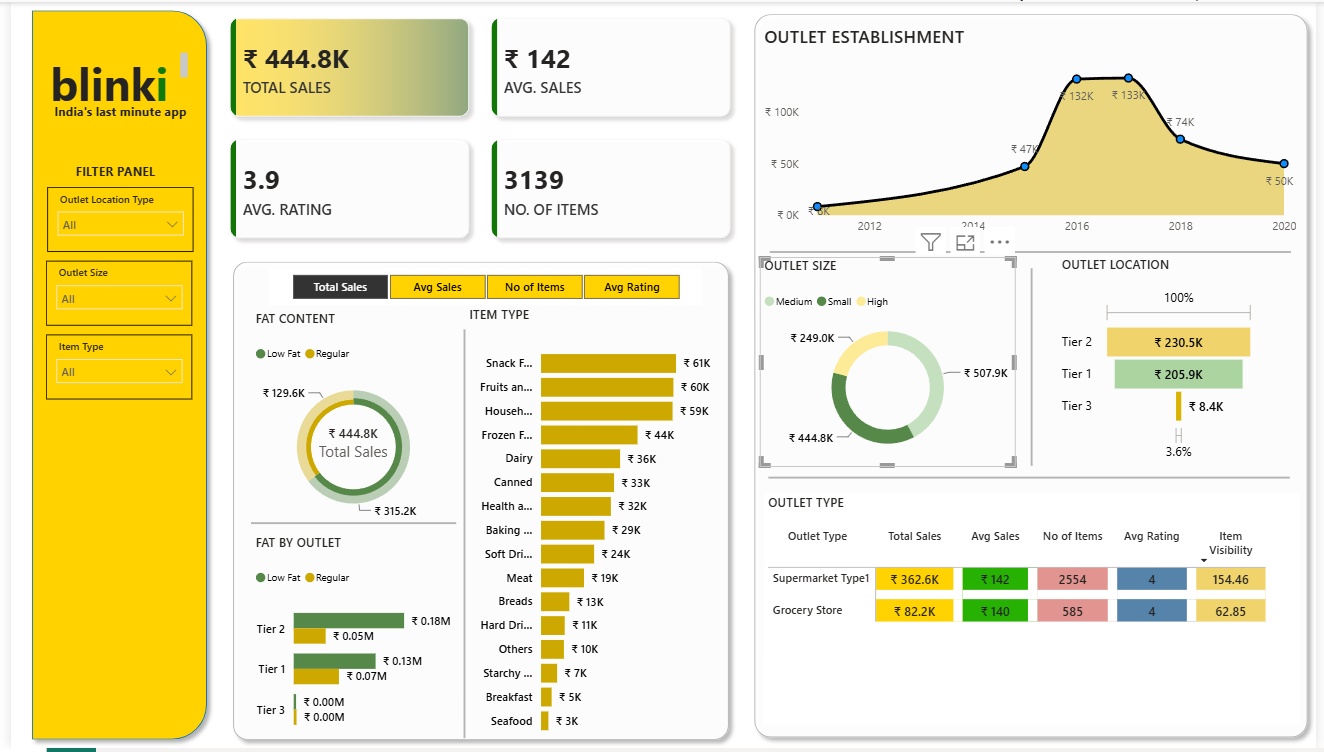

What the dashboard file says about the page in this screenshot:
{"tool":"powerbi","page":{"name":"Page 1","canvas":[1400,800],"ordinal":0},"visuals":[{"type":"shape","box":[12.9,0,205.7,800],"z":0},{"type":"textbox","box":[38,50,157,68],"z":1000},{"type":"textbox","box":[42.1,102.9,155.7,30],"z":2000},{"type":"cardVisual","fields":{"Data":["BlinkIT Grocery Data.Total Sales","BlinkIT Grocery Data.Avg Sales","BlinkIT Grocery Data.Avg Rating","BlinkIT Grocery Data.No of Items"]},"box":[218.6,0,570,270],"z":3000},{"type":"shape","box":[229.2,269.4,549.6,530.8],"z":4000},{"type":"donutChart","title":"FAT CONTENT","fields":{"Y":["BlinkIT Grocery Data.Total Sales"],"Category":["BlinkIT Grocery Data.Item Fat Content"]},"box":[257.1,330,220,240],"z":5000},{"type":"slicer","fields":{"Values":["Metrics.Metrics"]},"box":[275.7,285.7,465,40],"z":6000},{"type":"cardVisual","fields":{"Data":["BlinkIT Grocery Data.Total Sales"]},"box":[298.3,447.5,137.5,71.7],"z":7000},{"type":"clusteredBarChart","title":"FAT BY OUTLET","fields":{"Y":["BlinkIT Grocery Data.Total Sales"],"Category":["BlinkIT Grocery Data.Outlet Location Type"],"Series":["BlinkIT Grocery Data.Item Fat Content"]},"box":[256.9,570,220,230],"z":8000},{"type":"shape","box":[257.1,542.9,220,31.9],"z":9000},{"type":"shape","box":[477.3,350.9,18.2,438.2],"z":10000},{"type":"barChart","title":"ITEM TYPE","fields":{"Y":["BlinkIT Grocery Data.Total Sales"],"Category":["BlinkIT Grocery Data.Item Type"]},"box":[486.4,325.7,277.1,470.7],"z":11000},{"type":"shape","box":[788.8,3.8,611.2,793.8],"z":11001},{"type":"lineChart","title":"OUTLET ESTABLISHMENT","fields":{"Y":["BlinkIT Grocery Data.Total Sales"],"Category":["BlinkIT Grocery Data.Outlet Establishment Year"]},"box":[803,24.1,580.4,234.6],"z":11002},{"type":"shape","box":[813.7,253.4,559,29.5],"z":11003},{"type":"donutChart","title":"OUTLET SIZE","fields":{"Category":["BlinkIT Grocery Data.Outlet Size"],"Y":["BlinkIT Grocery Data.Total Sales"]},"box":[803,273.5,274.8,225.2],"z":11004},{"type":"shape","box":[1085.8,285.5,17.4,211.8],"z":11005},{"type":"funnel","title":"OUTLET LOCATION","fields":{"Category":["BlinkIT Grocery Data.Outlet Location Type"],"Y":["BlinkIT Grocery Data.Total Sales"]},"box":[1122,272.1,217.2,225.2],"z":11006},{"type":"shape","box":[812.3,494.6,559,30.8],"z":11007},{"type":"pivotTable","title":"OUTLET TYPE","fields":{"Values":["BlinkIT Grocery Data.Total Sales","BlinkIT Grocery Data.Avg Sales","BlinkIT Grocery Data.No of Items","BlinkIT Grocery Data.Avg Rating","Sum(BlinkIT Grocery Data.Item Visibility)"],"Rows":["BlinkIT Grocery Data.Outlet Type"]},"box":[807,526.8,575.1,248],"z":11008},{"type":"slicer","fields":{"Values":["BlinkIT Grocery Data.Outlet Location Type"]},"box":[38.9,198.4,156.8,69.7],"z":11009},{"type":"slicer","fields":{"Values":["BlinkIT Grocery Data.Outlet Size"]},"box":[37.5,277.5,156.8,69.7],"z":11010},{"type":"slicer","fields":{"Values":["BlinkIT Grocery Data.Item Type"]},"box":[37.5,356.6,156.8,69.7],"z":11011},{"type":"textbox","box":[64,168,105,30],"z":11012}]}

Visuals, with their boxes in screenshot pixels (x1, y1, x2, y2), scaled from the page's 1400x800 canvas onto the 1324x752 screenshot:
shape: [12, 0, 207, 751]
textbox: [36, 47, 184, 111]
textbox: [40, 97, 187, 125]
cardVisual - BlinkIT Grocery Data.Total Sales x BlinkIT Grocery Data.Avg Sales: [207, 0, 746, 254]
shape: [217, 253, 737, 751]
"FAT CONTENT" donutChart: [243, 310, 451, 536]
slicer - Metrics.Metrics: [261, 269, 700, 306]
cardVisual - BlinkIT Grocery Data.Total Sales: [282, 421, 412, 488]
"FAT BY OUTLET" clusteredBarChart: [243, 536, 451, 751]
shape: [243, 510, 451, 540]
shape: [451, 330, 469, 742]
"ITEM TYPE" barChart: [460, 306, 722, 749]
shape: [746, 4, 1323, 750]
"OUTLET ESTABLISHMENT" lineChart: [759, 23, 1308, 243]
shape: [770, 238, 1298, 266]
"OUTLET SIZE" donutChart: [759, 257, 1019, 469]
shape: [1027, 268, 1043, 467]
"OUTLET LOCATION" funnel: [1061, 256, 1267, 467]
shape: [768, 465, 1297, 494]
"OUTLET TYPE" pivotTable: [763, 495, 1307, 728]
slicer - BlinkIT Grocery Data.Outlet Location Type: [37, 186, 185, 252]
slicer - BlinkIT Grocery Data.Outlet Size: [35, 261, 184, 326]
slicer - BlinkIT Grocery Data.Item Type: [35, 335, 184, 401]
textbox: [61, 158, 160, 186]
